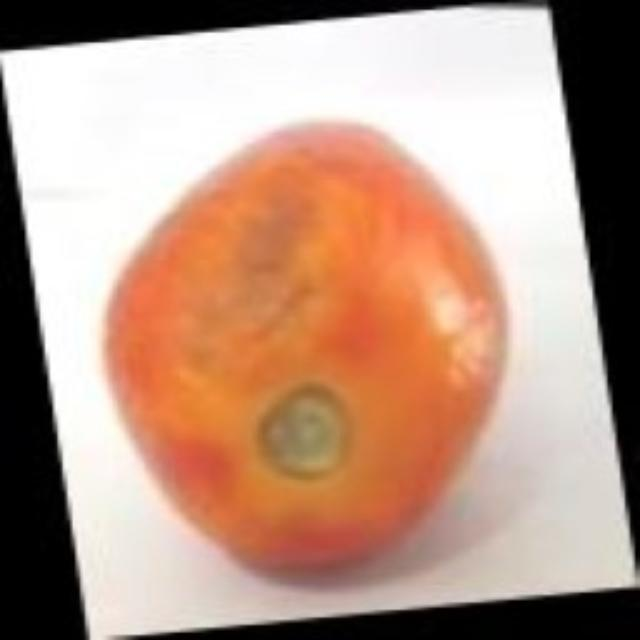defect: (98, 112, 513, 575)
